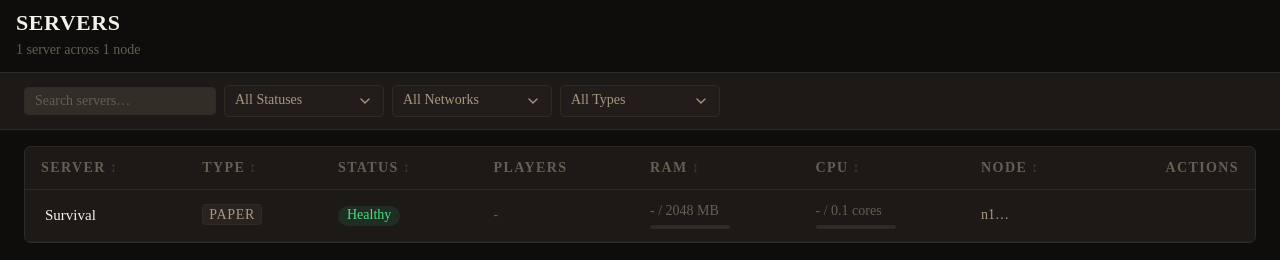
Test: ServersPage › Filter search › shows no-match message when search filters out all servers
expect the text "Survival" is shown: met, box left=45, top=207, right=96, bottom=223
Type "ZZZ" into the field with placeholder "Search servers…" at (120, 101), box left=24, top=87, right=216, bottom=115
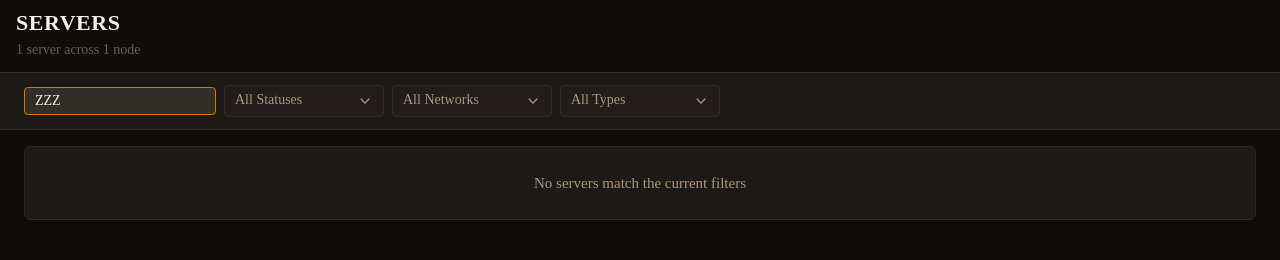
expect the text "No servers match the current filters" is shown: met, box left=534, top=171, right=746, bottom=195
